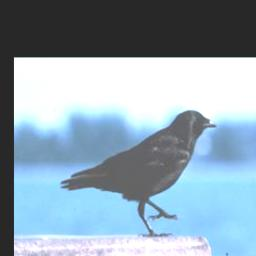Crow: (58, 105, 219, 238)
